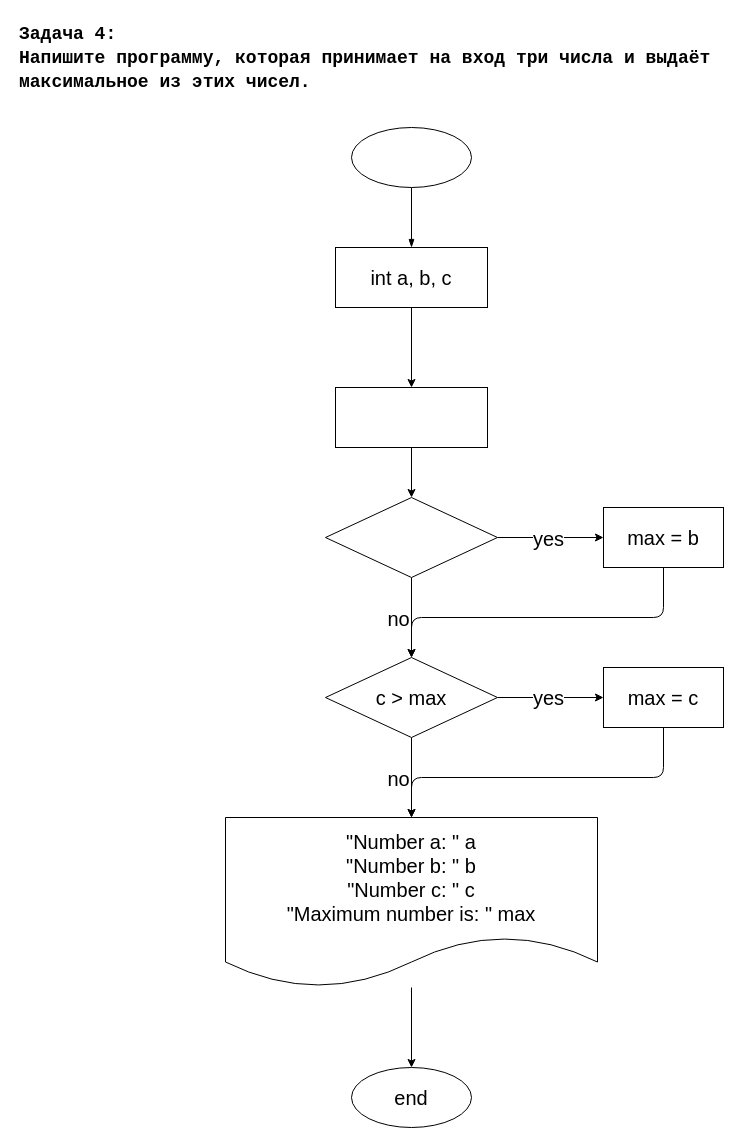
Some shapes in this 741 by 1145 pixel diagram are drawn without their labels. The box of each missing label's shape, as (x1, y1, x2, y2) in pixels:
b > max: (324, 496, 498, 578)
int max = a: (334, 386, 488, 448)
start: (350, 126, 472, 188)
